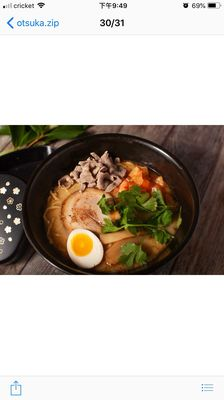curry: (117, 242, 148, 268)
sushi: (20, 132, 200, 272)
